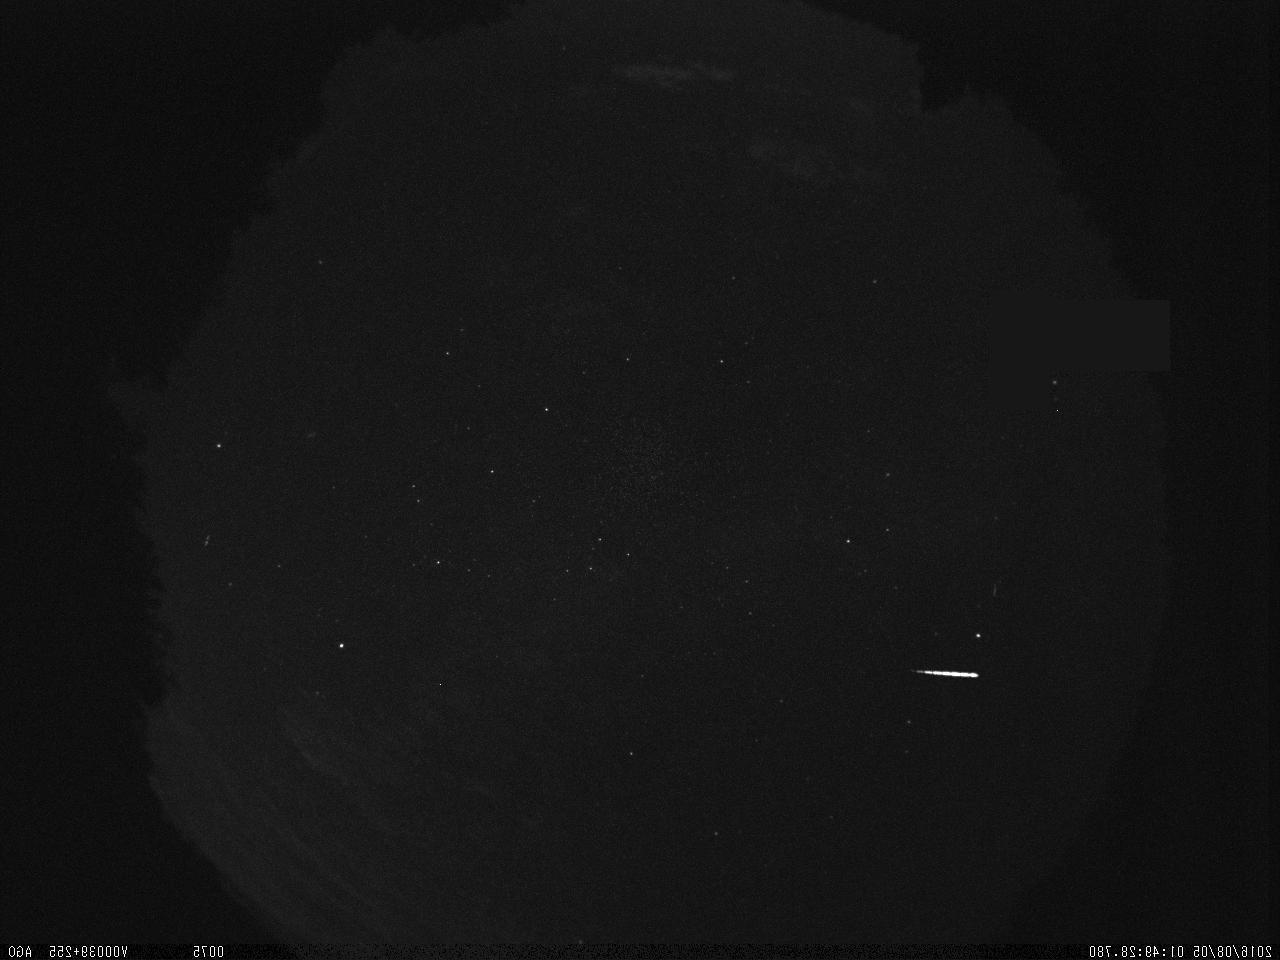meteor: (906, 666, 989, 684)
